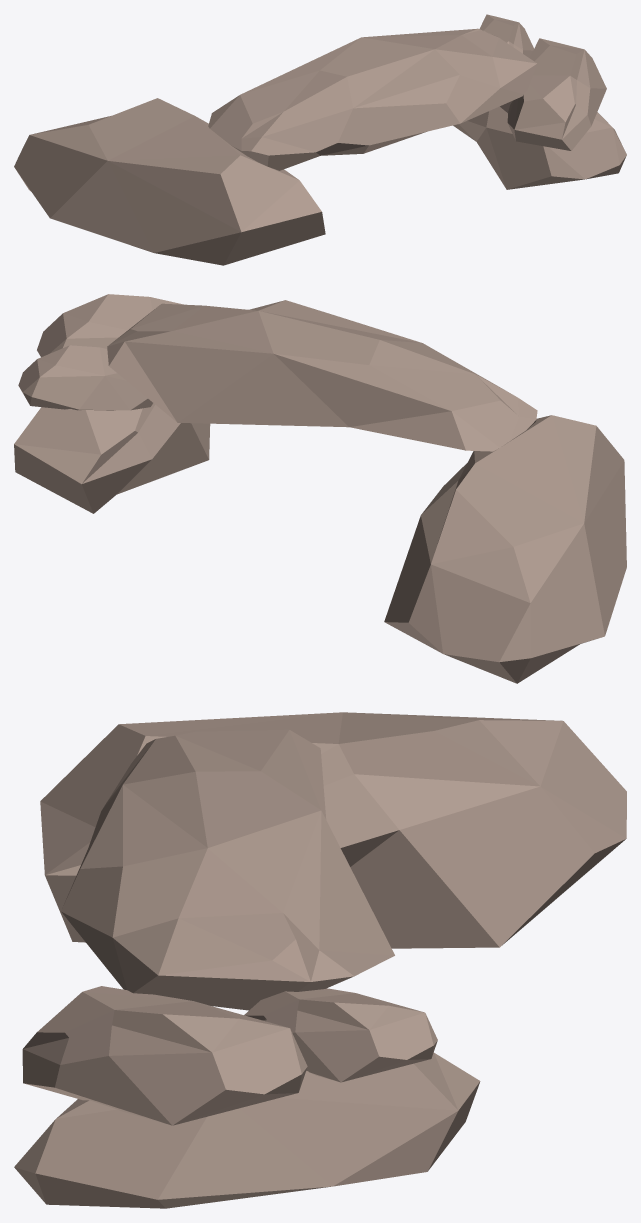
The model's file is Bridge.fbx.
The picture shows the model from 3 angles, top to bottom: view 1: azimuth 30°, elevation 25°; view 2: azimuth 150°, elevation 25°; view 3: azimuth 270°, elevation 25°; orthographic projection. The views are drawn at different scales.
Visible parts, largest first — view 1: polySurface9065; view 2: polySurface9065; view 3: polySurface9065.
Part boxes in pixels (box(x1,y1,x2,y2)): polySurface9065: box(14, 14, 626, 265); polySurface9065: box(14, 294, 626, 683); polySurface9065: box(14, 712, 626, 1208).
Bounding box in the file's own units: 10.07 × 2.82 × 5.9.
